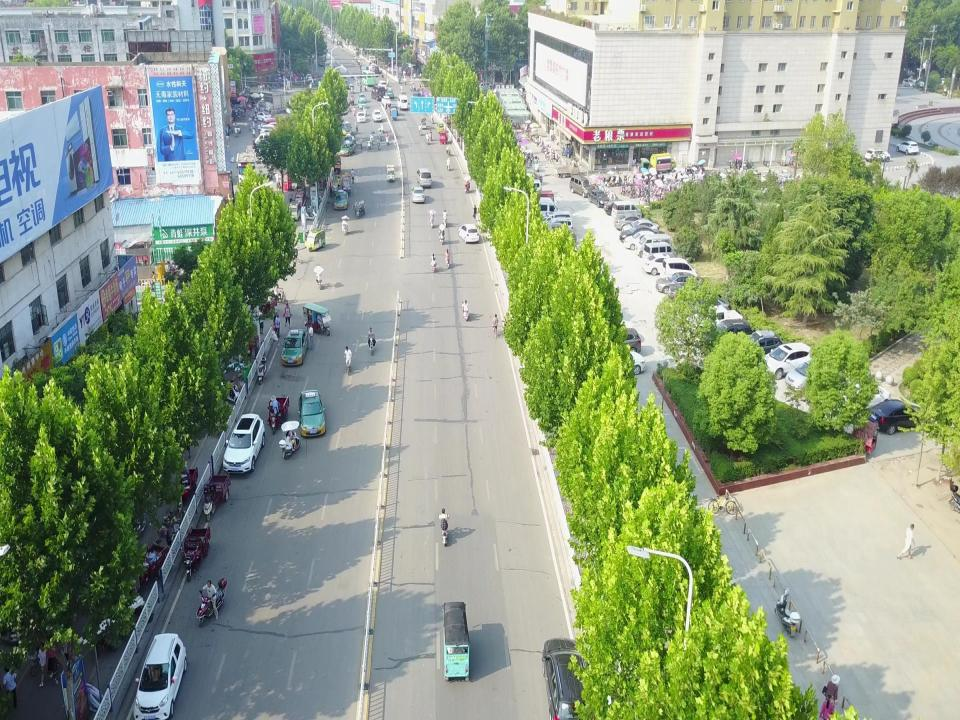bus: (362, 70, 376, 86)
car: (132, 631, 188, 720), (541, 636, 598, 720), (222, 412, 266, 475), (785, 354, 846, 393), (868, 398, 932, 435), (760, 341, 813, 381), (834, 381, 892, 417), (737, 328, 781, 363), (709, 318, 753, 352), (296, 388, 326, 437), (681, 293, 731, 318), (599, 326, 642, 353), (655, 271, 705, 294), (281, 327, 309, 367), (605, 350, 646, 376), (641, 252, 681, 277), (619, 224, 658, 245), (624, 230, 660, 251), (668, 282, 706, 301), (614, 212, 649, 231), (621, 217, 659, 234), (863, 148, 891, 164), (604, 199, 630, 216), (457, 223, 479, 243), (587, 189, 610, 208), (895, 140, 919, 156), (518, 170, 543, 183), (334, 189, 349, 209), (338, 141, 356, 156), (411, 186, 425, 204), (475, 80, 491, 94), (260, 124, 278, 135), (254, 111, 272, 122), (266, 118, 284, 129), (344, 134, 356, 148), (372, 109, 382, 122), (389, 104, 399, 117), (342, 123, 352, 135), (356, 110, 366, 122), (357, 99, 367, 109), (381, 96, 391, 106), (358, 92, 366, 102), (386, 89, 394, 98)
truck: (687, 305, 743, 335), (236, 143, 256, 187), (554, 161, 581, 178)
van: (524, 196, 562, 221), (661, 257, 699, 281), (539, 222, 577, 246), (635, 233, 671, 258), (642, 241, 678, 264), (538, 209, 572, 232), (514, 177, 542, 199), (527, 190, 555, 211), (610, 201, 642, 219), (569, 174, 593, 198), (545, 216, 573, 235), (416, 167, 432, 189), (254, 132, 275, 148), (370, 85, 386, 101), (397, 94, 408, 111), (377, 80, 387, 91)
